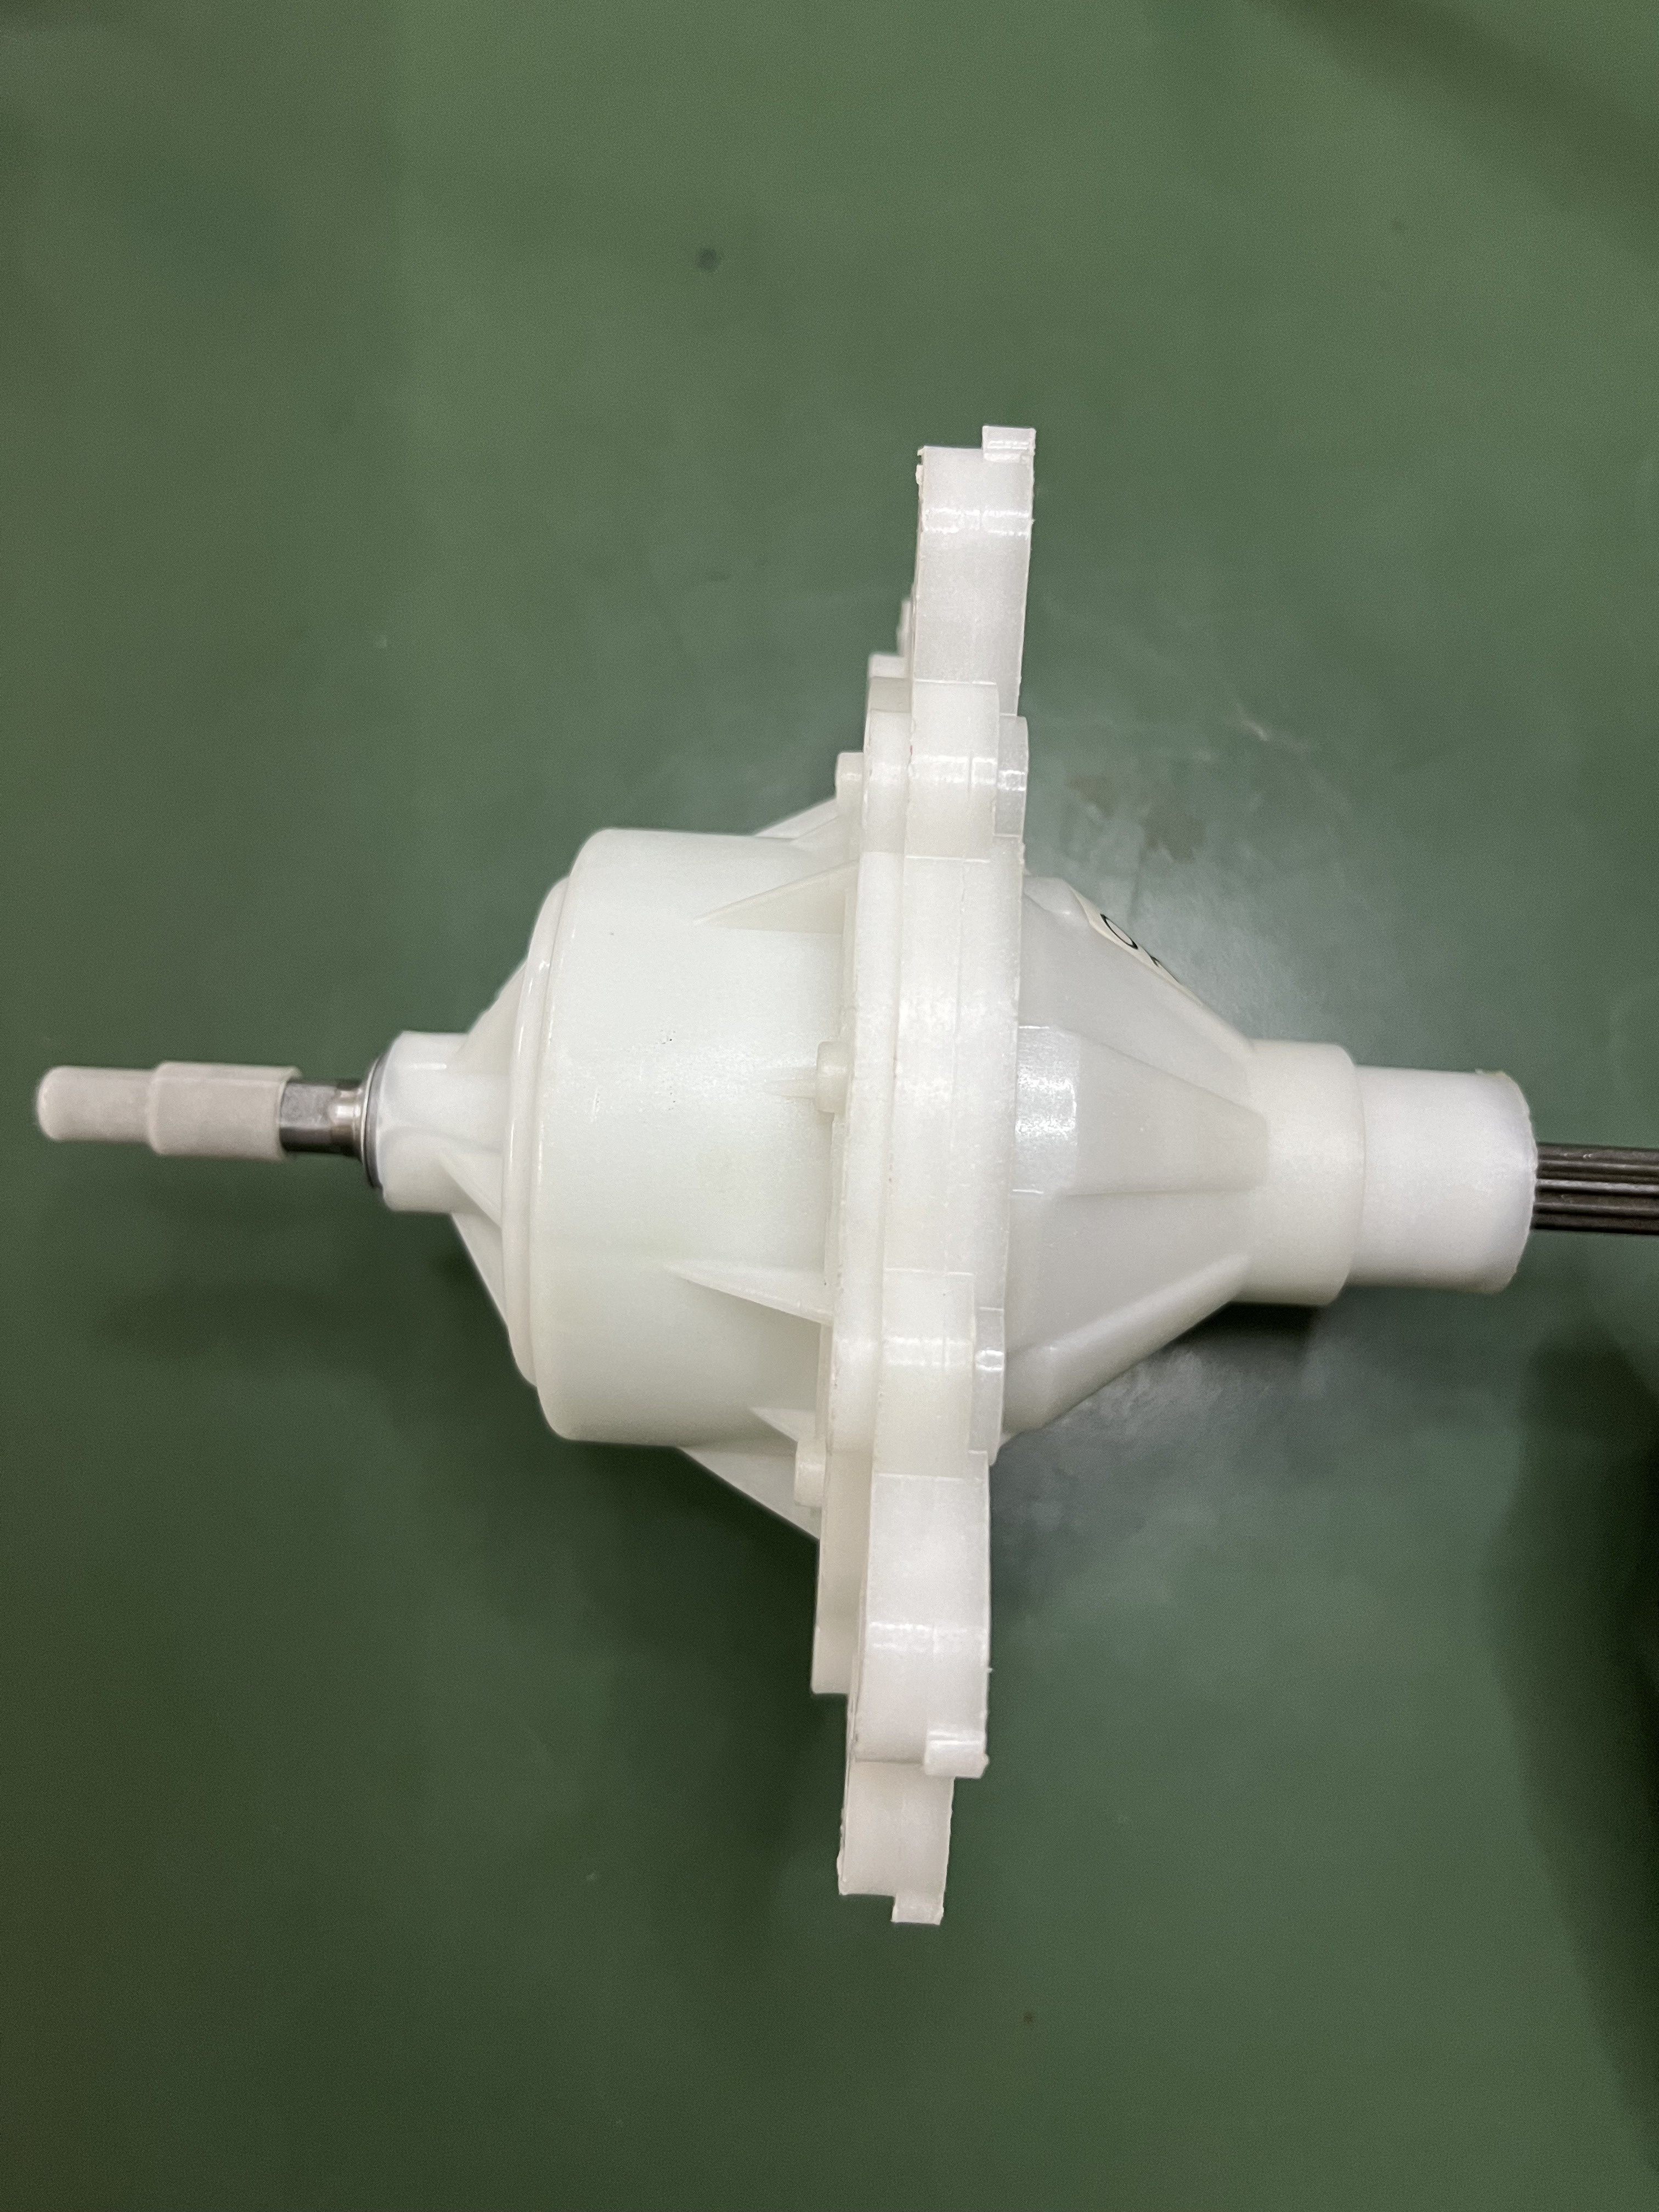gear_box_design: (9, 458, 1657, 1933)
